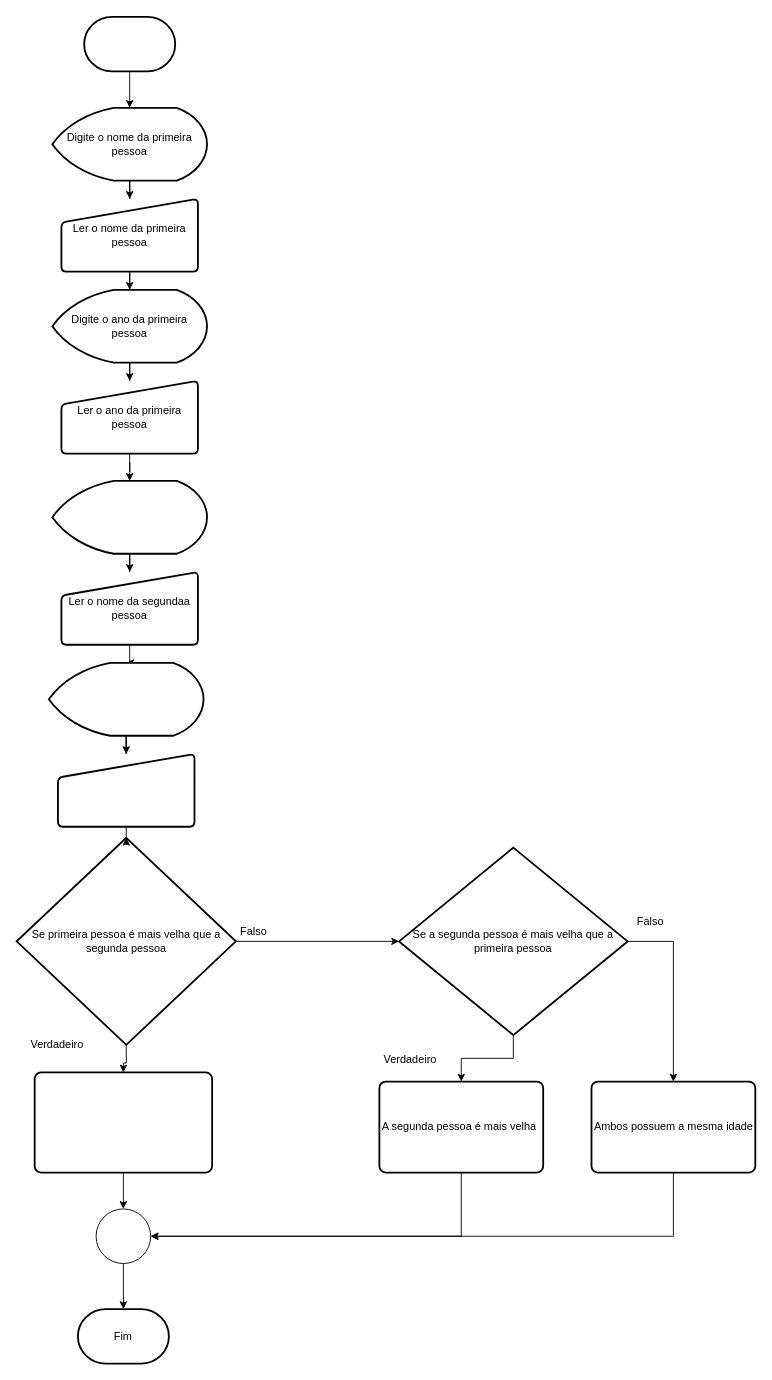
Image size: 772x1380. Some labels were removed from this diagram. Each missing label, with the box of its shape:
A primeira pessoa é mais velha: (33, 1071, 213, 1173)
Digite o ano da segunda pessoa: (48, 662, 204, 736)
Digite o nome da segunda pessoa: (51, 480, 207, 554)
Ler o ano da segunda pessoa: (57, 753, 195, 827)
Ínicio: (83, 15, 176, 72)
